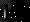person: (6, 5, 12, 21)
